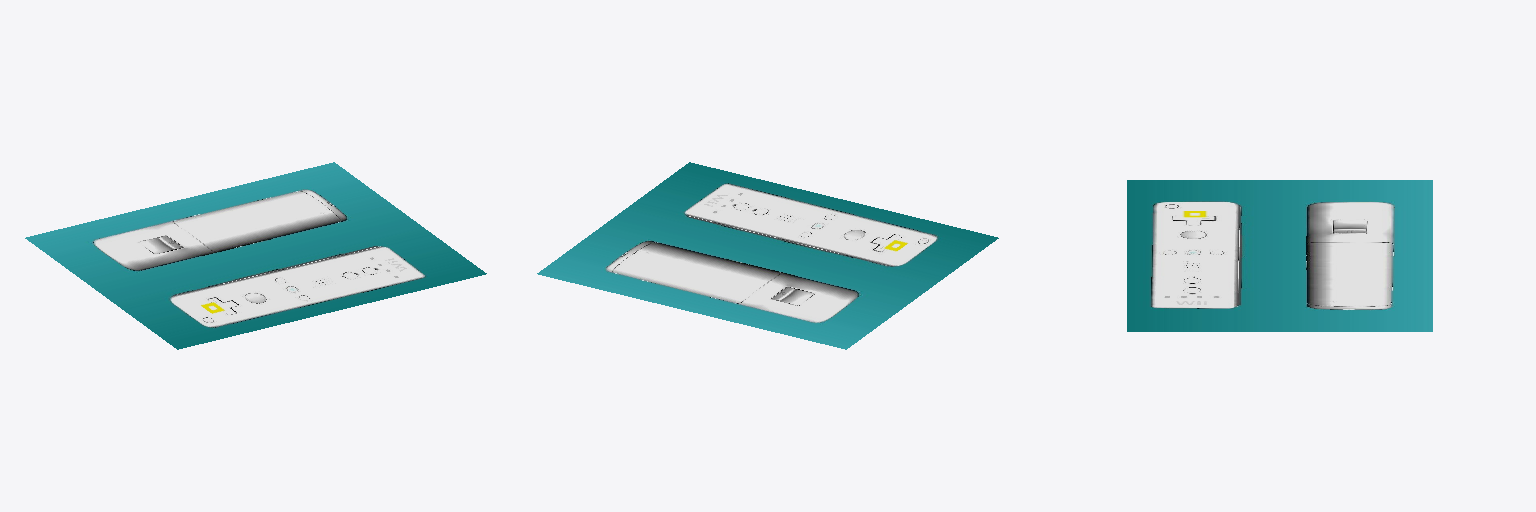
The picture shows the model from 3 angles: view 1: azimuth 30°, elevation 25°; view 2: azimuth 150°, elevation 25°; view 3: azimuth 270°, elevation 25°; orthographic projection.
Parts seen in each view (by area): view 1: Plane002; view 2: Plane002; view 3: Plane002.
Boxes of the visible parts, x1,y1,x2,y2 form: Plane002: [25, 162, 486, 349]; Plane002: [537, 162, 998, 349]; Plane002: [1127, 180, 1432, 331].
Bounding box in the file's own units: 94.59 × 0 × 80.88.
1 materials, 1 textured.